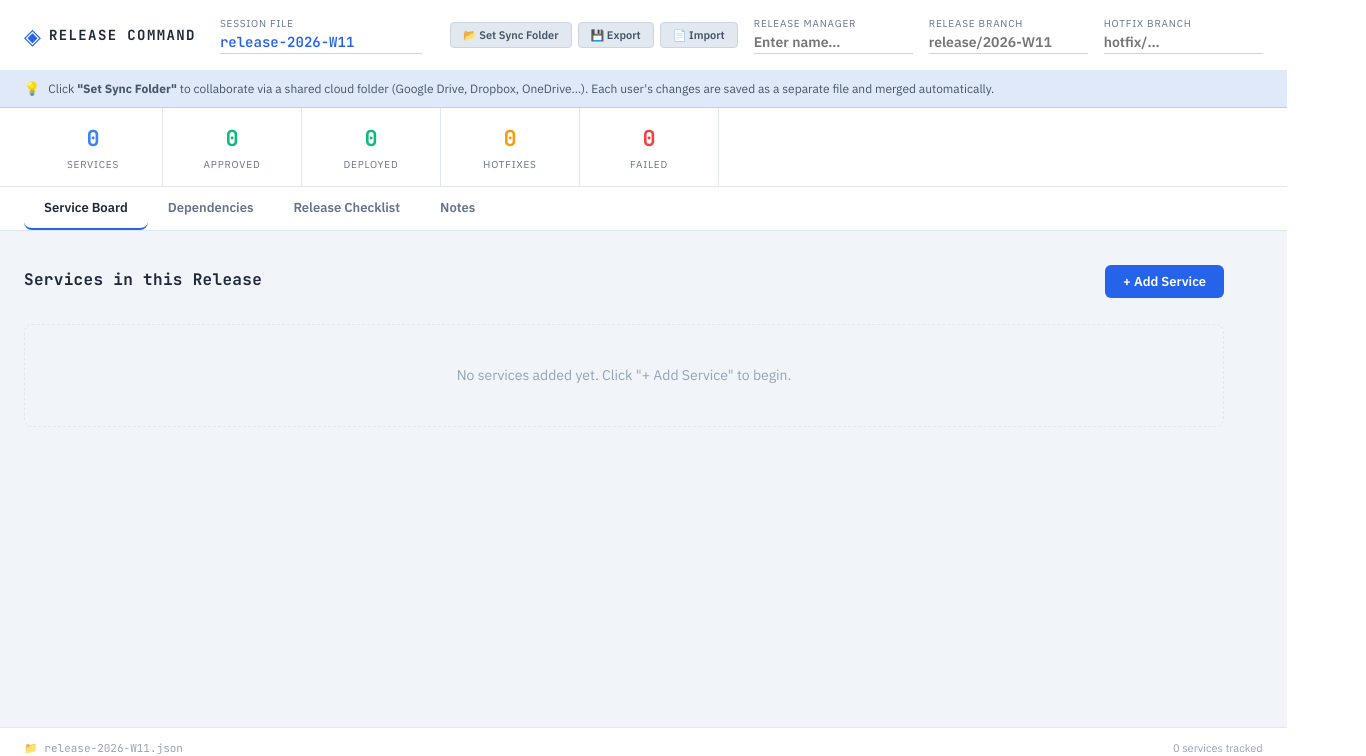
Checklist tab › still renders phase pills after phase bar removal
What coordinates should you click on to do the following:
click the button "Release Checklist"
I would click on:
 (347, 208)
Its box is [273,186,420,230].
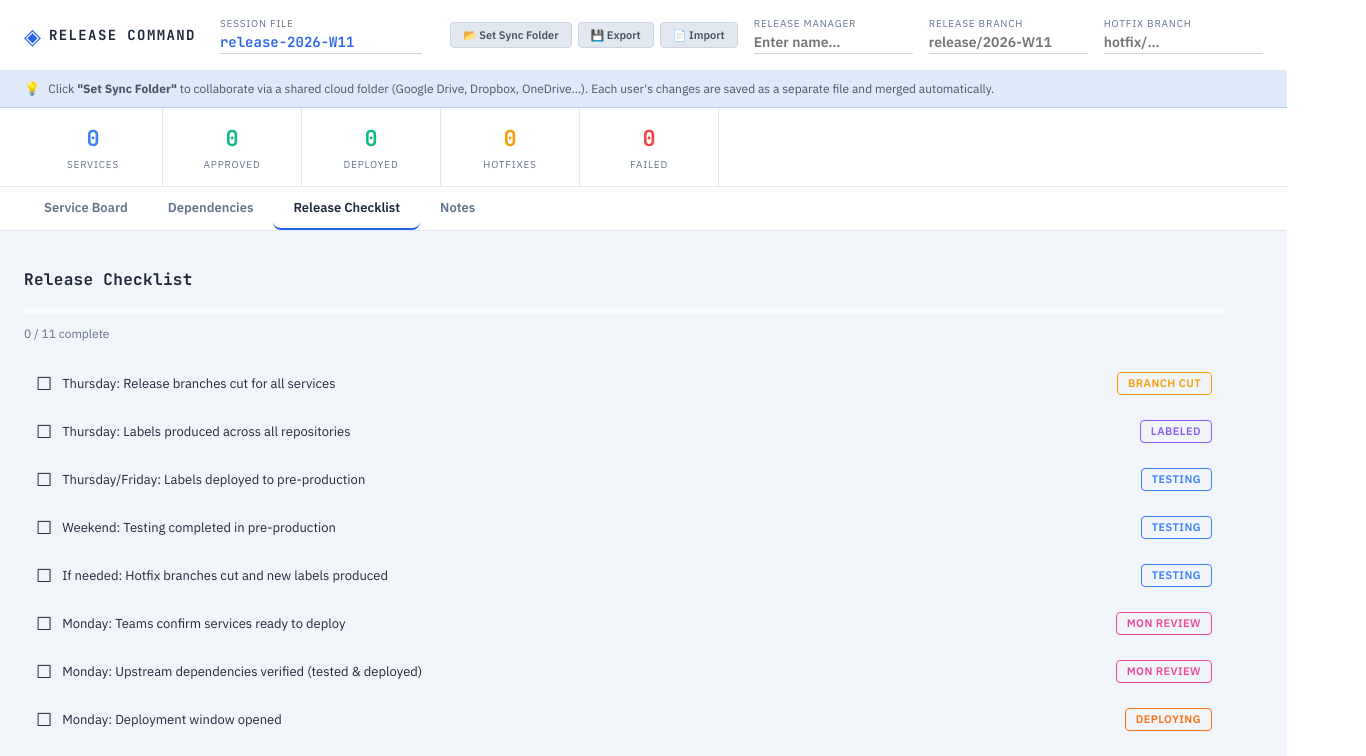
expect the text "Branch Cut" is shown: met, box [1117,372,1212,394]
